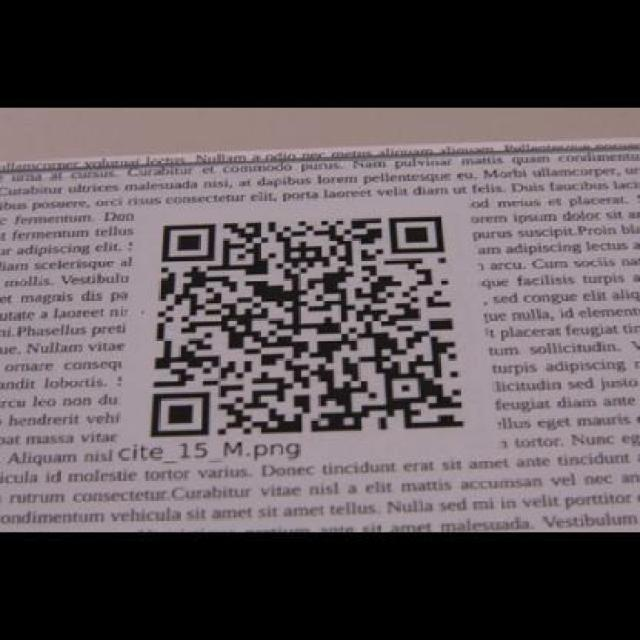QRCode: (142, 203, 470, 446)
